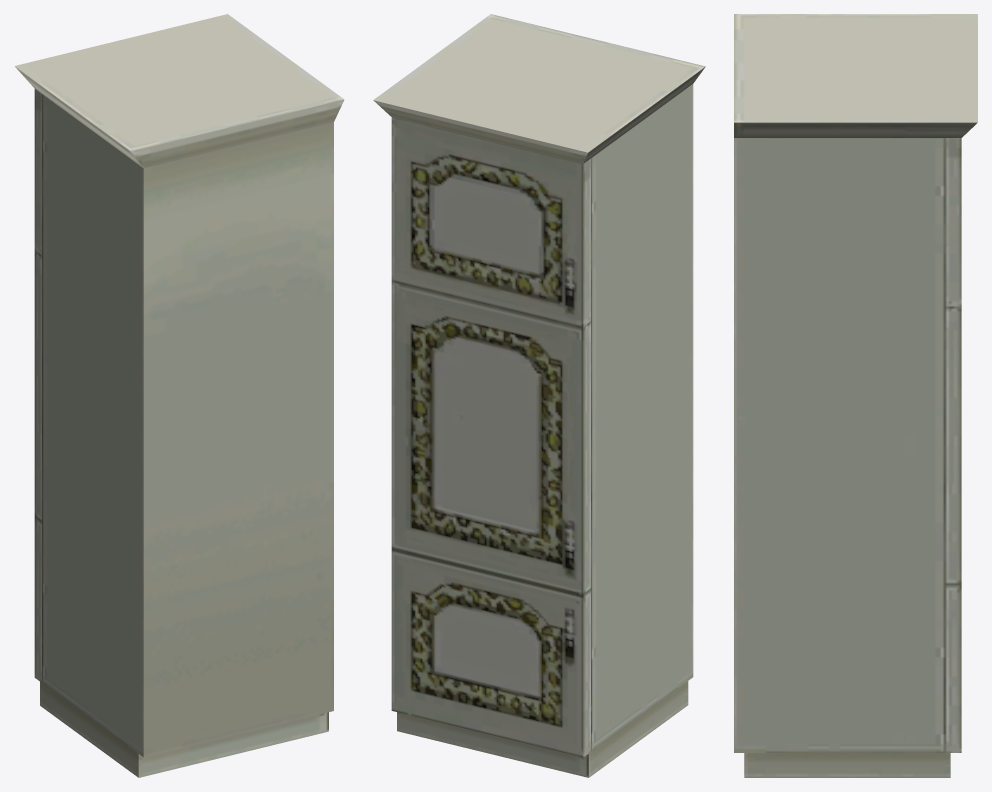
The model's file is furni_0200093_01.FBX.
3 views of the same model, side by side, from view 1: azimuth 30°, elevation 25°; view 2: azimuth 150°, elevation 25°; view 3: azimuth 270°, elevation 25° (orthographic). The views are drawn at different scales.
Parts seen in each view (by area): view 1: furni_0200093_01; view 2: furni_0200093_01; view 3: furni_0200093_01.
Boxes of the visible parts, x1=… form: furni_0200093_01: x1=14, y1=14, x2=344, y2=777; furni_0200093_01: x1=373, y1=14, x2=705, y2=777; furni_0200093_01: x1=734, y1=14, x2=977, y2=777.
Bounding box in the file's own units: 77.73 × 220 × 73.75.
